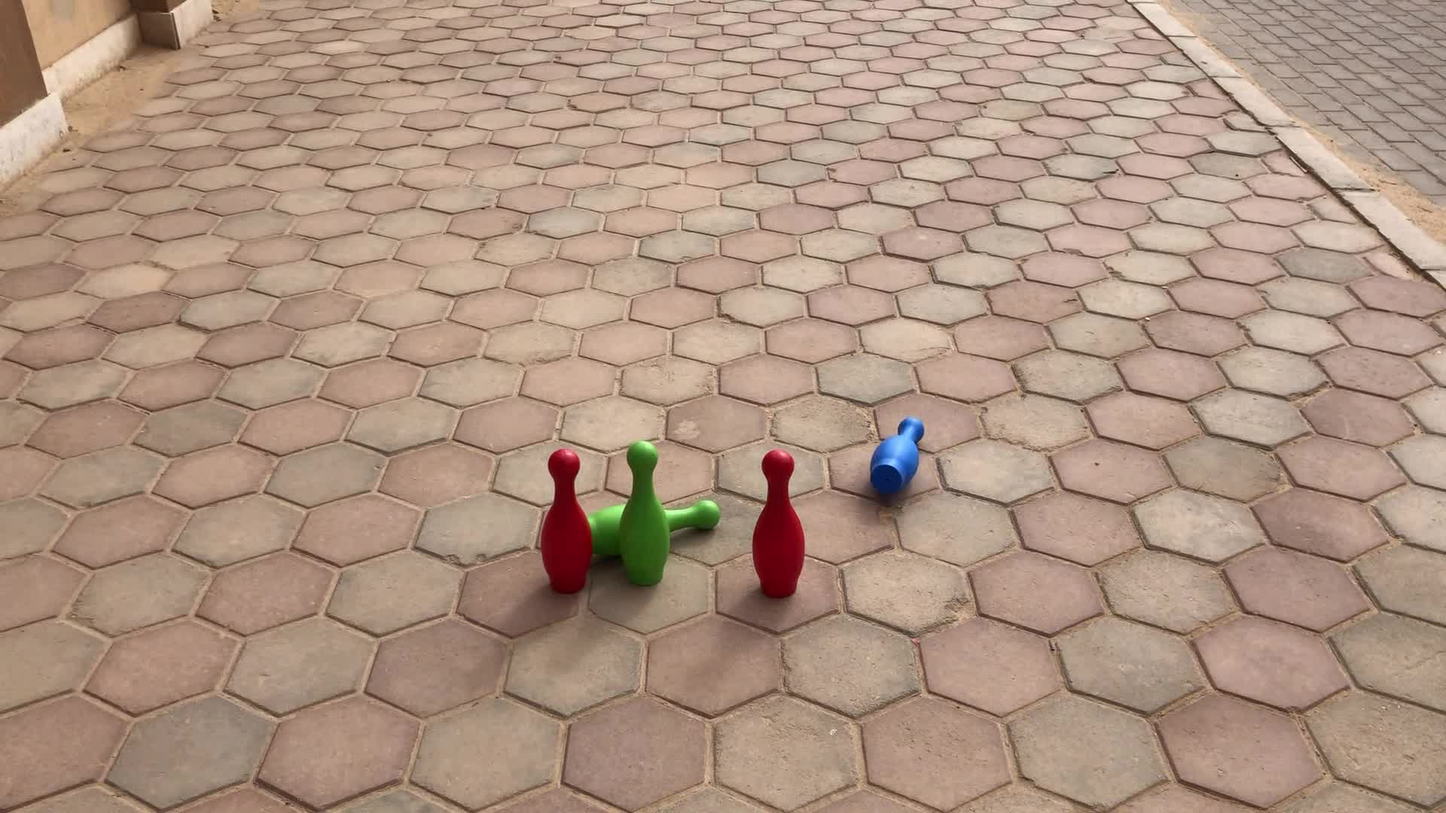bowling-pin: (752, 449, 804, 596), (540, 451, 592, 593), (620, 440, 670, 586), (871, 418, 925, 498), (590, 504, 624, 562)
